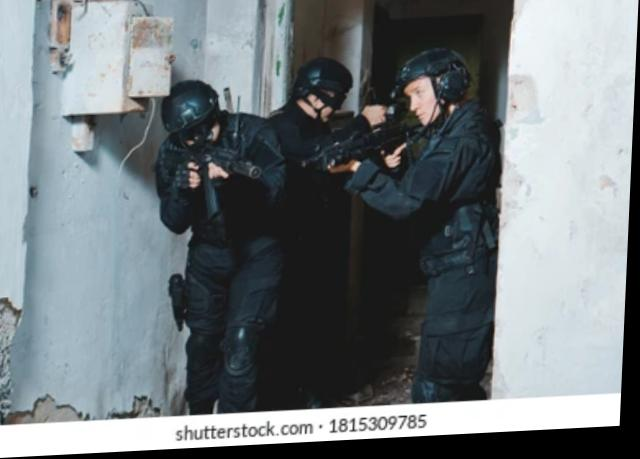other: (242, 52, 376, 395), (381, 49, 506, 386), (150, 77, 256, 410)
